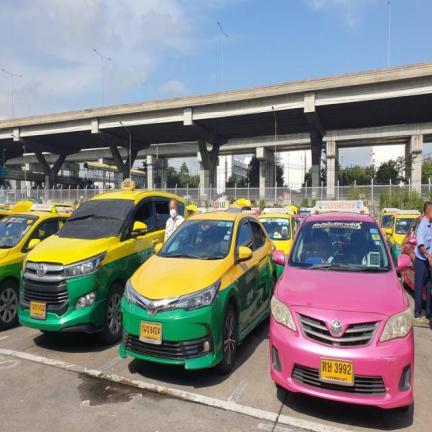car: (423, 287, 425, 300)
human: (165, 198, 184, 241)
taxi: (271, 202, 413, 408), (18, 179, 186, 342), (119, 212, 276, 372), (0, 201, 66, 329), (259, 207, 298, 255), (385, 210, 419, 265), (379, 208, 398, 232), (398, 254, 408, 270), (273, 250, 284, 264), (277, 265, 283, 277), (155, 245, 159, 250)
